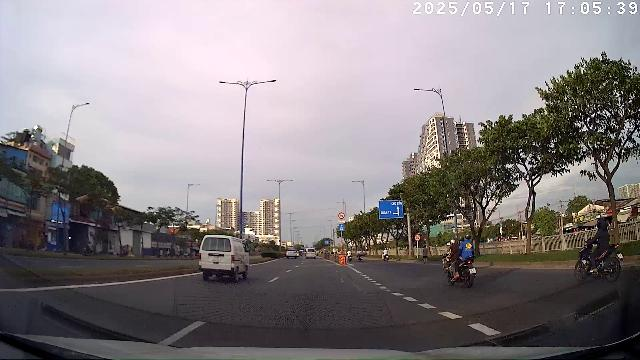103a-cam-oto: (414, 235, 420, 241)
